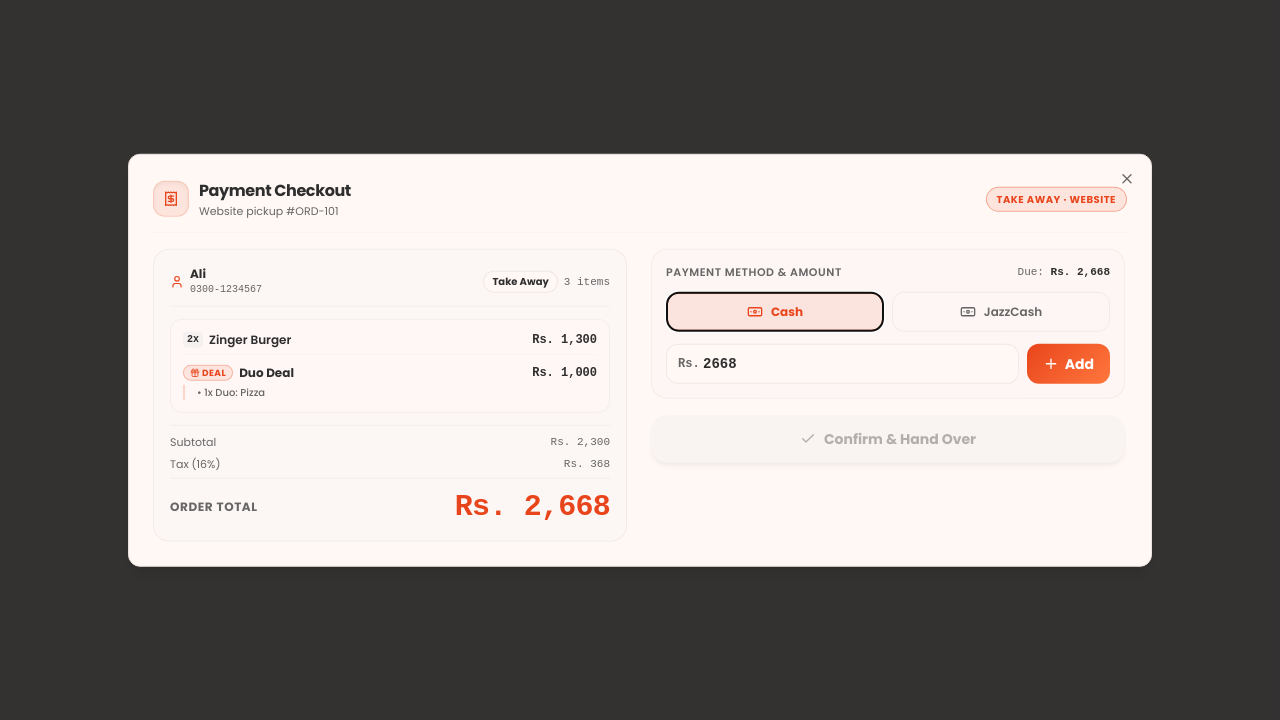
Test: WebsitePickupPaymentDialog › needs a payment added before it can confirm, like POS
Expected: the button "Confirm & Hand Over" is disabled, [651,414,1125,462]
Click the button "Add". click: point(1068, 363)
box: [1027,343,1110,383]
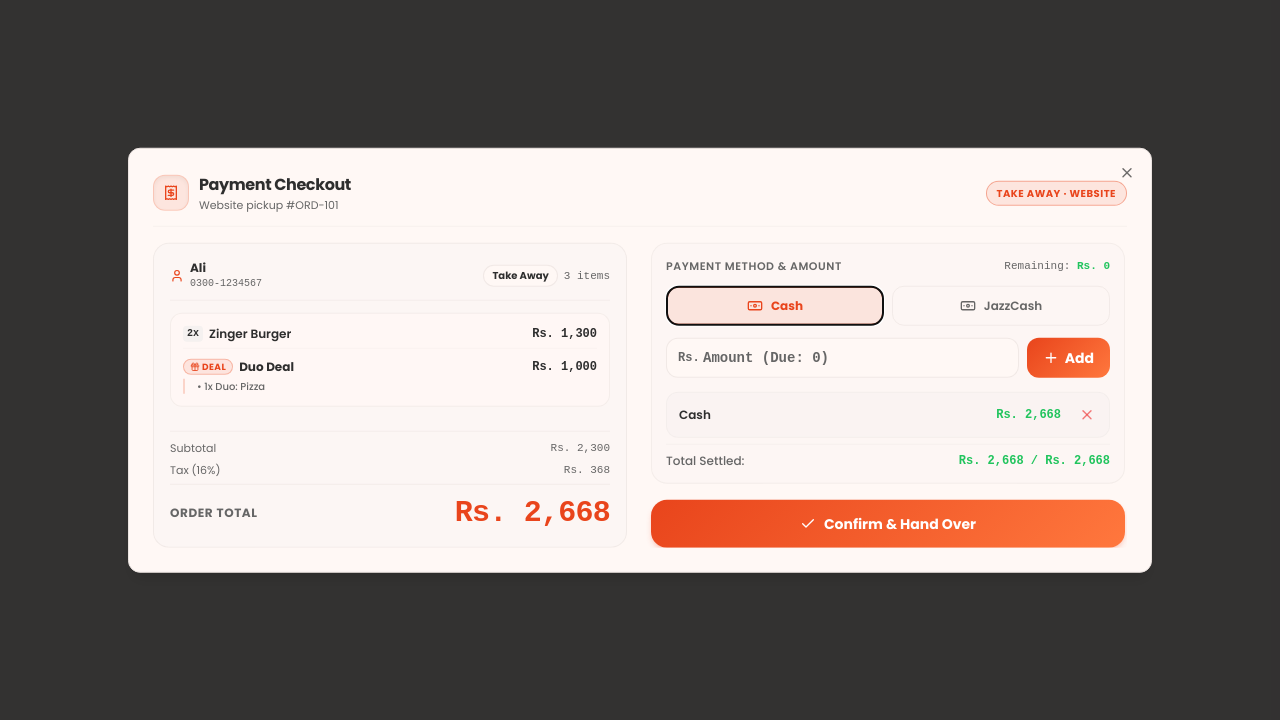
Expected: the button "Confirm & Hand Over" is enabled, [651,499,1125,547]
